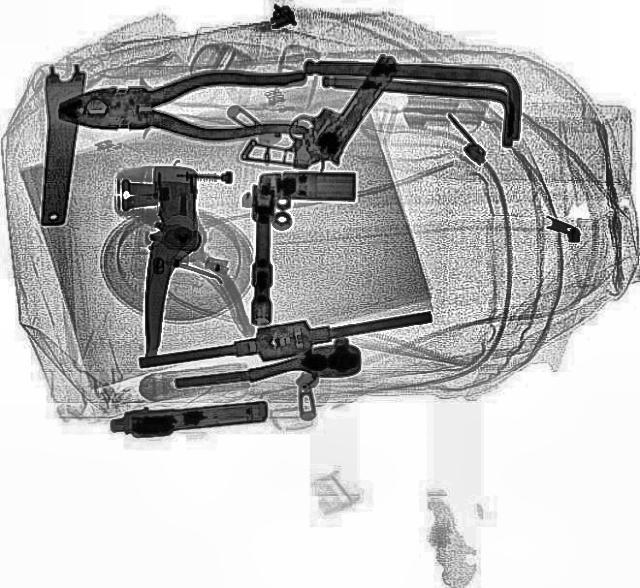Gun: (238, 26, 404, 192), (106, 396, 268, 440)
Pliers: (54, 68, 306, 144)
